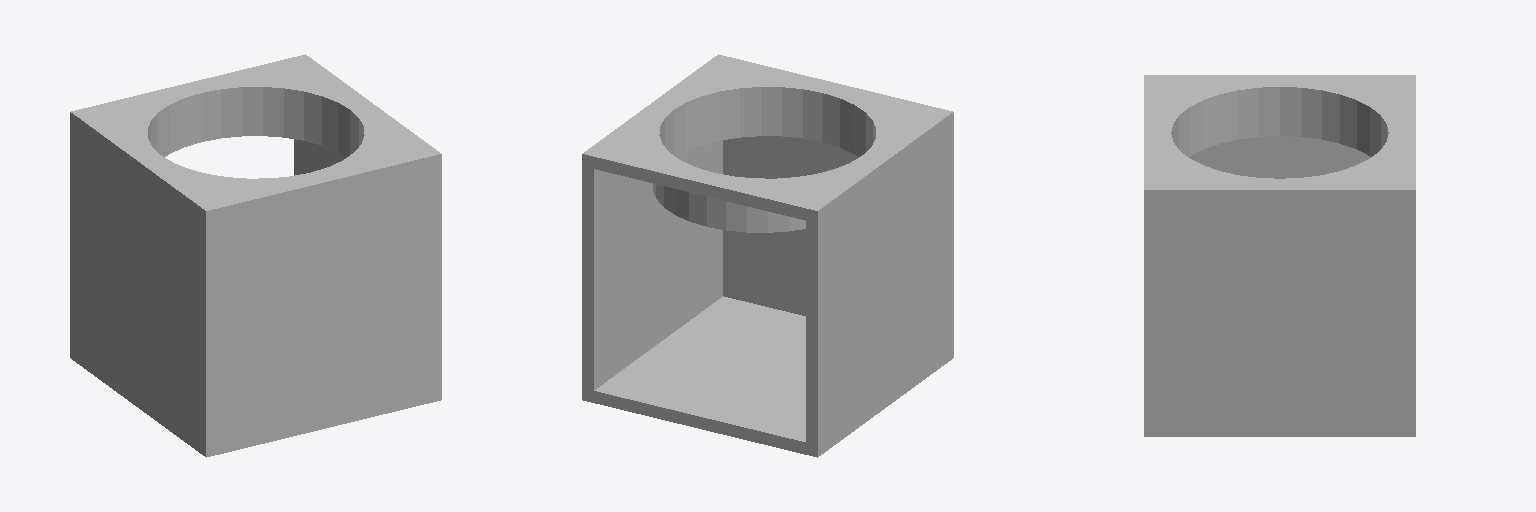
File: block_spring_a.obj
3 renders of one model, left to right at view 1: azimuth 30°, elevation 25°; view 2: azimuth 150°, elevation 25°; view 3: azimuth 270°, elevation 25°, orthographic.
Visible parts, largest first — view 1: Cube; view 2: Cube; view 3: Cube.
Boxes of the visible parts, x1,y1,x2,y2 form: Cube: [70, 54, 441, 457]; Cube: [582, 54, 953, 457]; Cube: [1144, 75, 1415, 436].
Bounding box in the file's own units: 20 × 20 × 20.